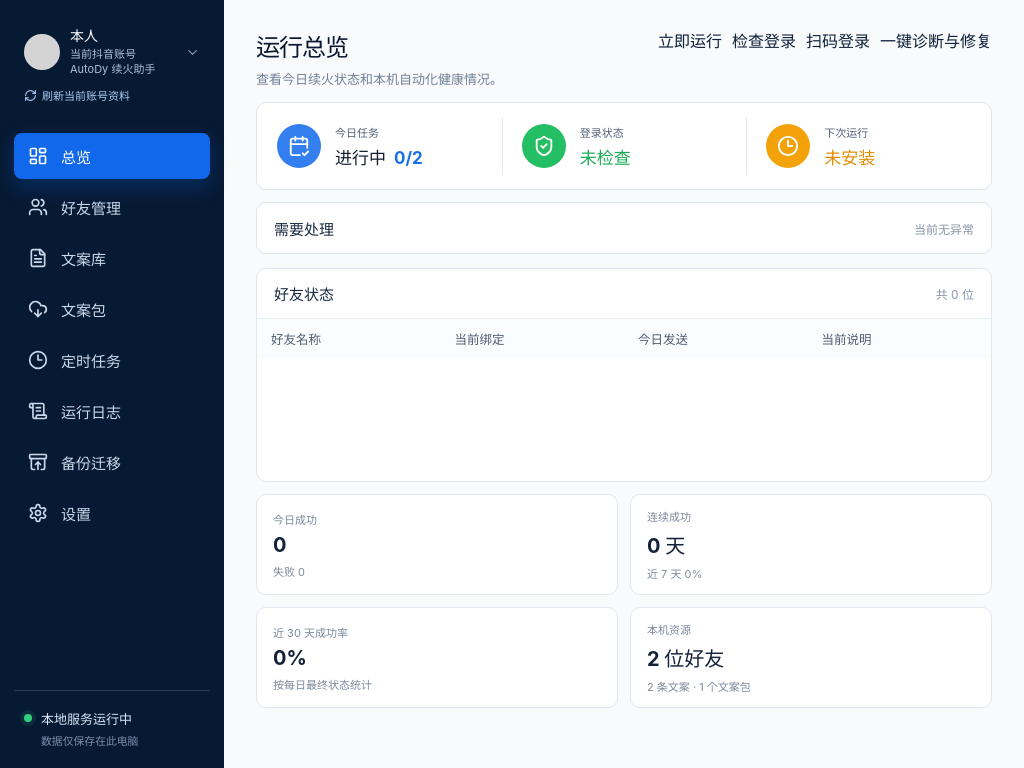
Test: switches a saved account and refreshes every shared view immediately
What coordinates should you click on to do the following:
click the button with aria-label "打开账号切换器"
I would click on:
 (112, 52)
Its box is [14,25,210,79].
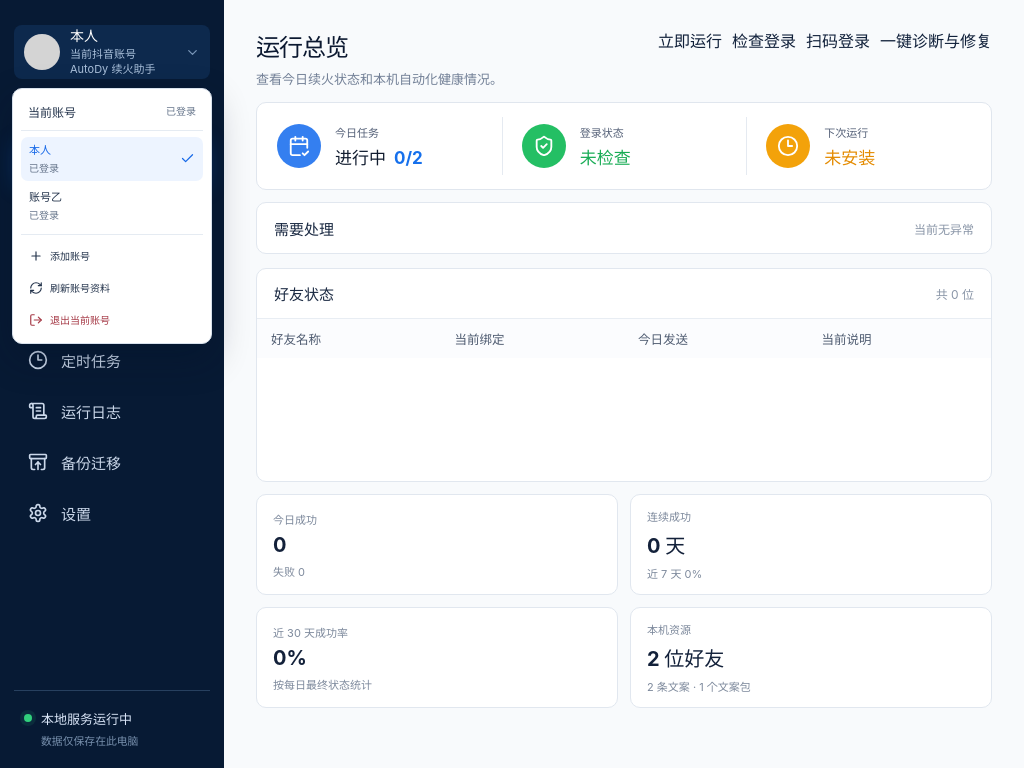
What coordinates should you click on to do the following:
click the button with aria-label "切换到 账号乙"
I would click on:
 (112, 206)
Its box is [21,184,203,228].
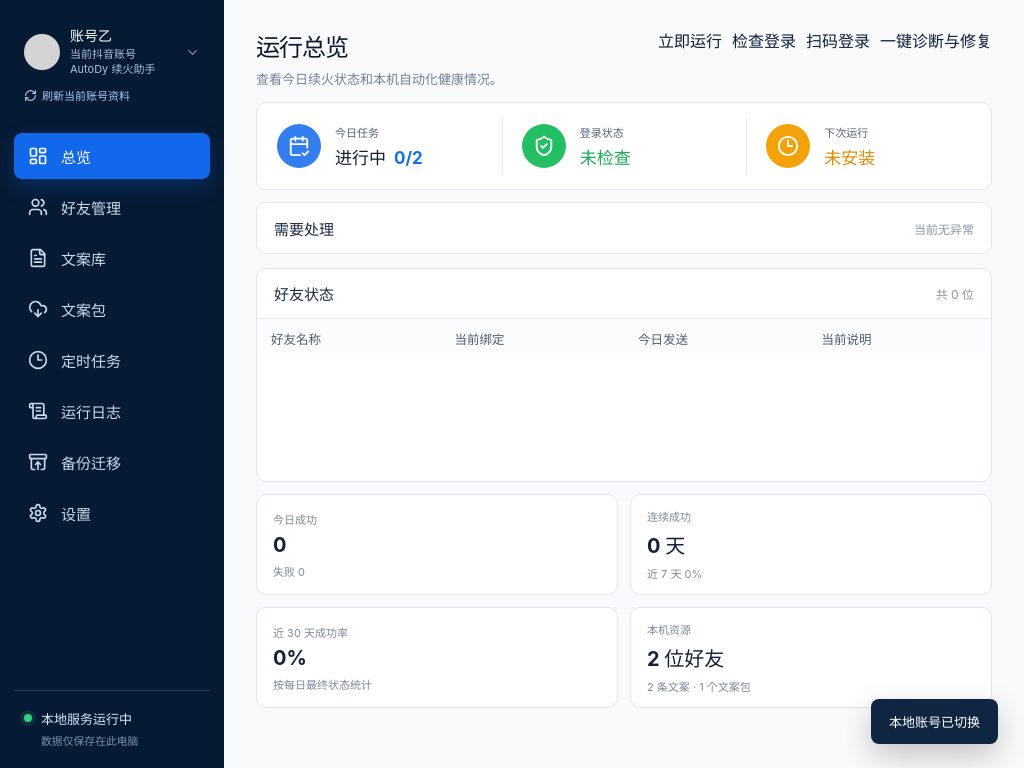
Result: the text "账号乙" is shown at [70,27,112,44]
